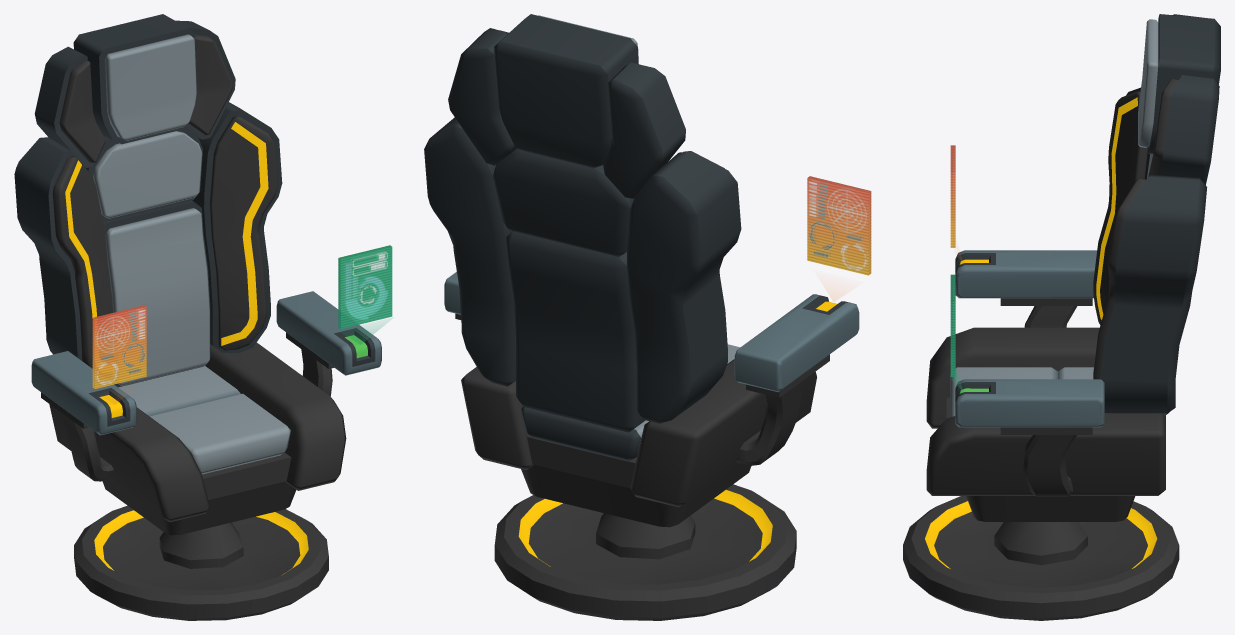
File: Armchair_006.glb
3 renders of one model, left to right at view 1: azimuth 30°, elevation 25°; view 2: azimuth 150°, elevation 25°; view 3: azimuth 270°, elevation 25°, orthographic. The views are drawn at different scales.
Parts seen in each view (by area): view 1: Armchair_006, Armchair_006_screen_001, Armchair_006_screen_002; view 2: Armchair_006, Armchair_006_screen_002; view 3: Armchair_006, Armchair_006_screen_001, Armchair_006_screen_002.
Part boxes in pixels (bbox=[...]): Armchair_006: bbox=[14, 14, 381, 620]; Armchair_006_screen_001: bbox=[338, 245, 392, 344]; Armchair_006_screen_002: bbox=[92, 305, 146, 403]; Armchair_006: bbox=[424, 14, 859, 620]; Armchair_006_screen_002: bbox=[807, 176, 871, 301]; Armchair_006: bbox=[903, 14, 1220, 620]; Armchair_006_screen_001: bbox=[950, 274, 962, 390]; Armchair_006_screen_002: bbox=[950, 145, 962, 260].
Size of the model in its own units: 0.966 by 1.49 by 0.8128.
4 materials, 4 textured.
